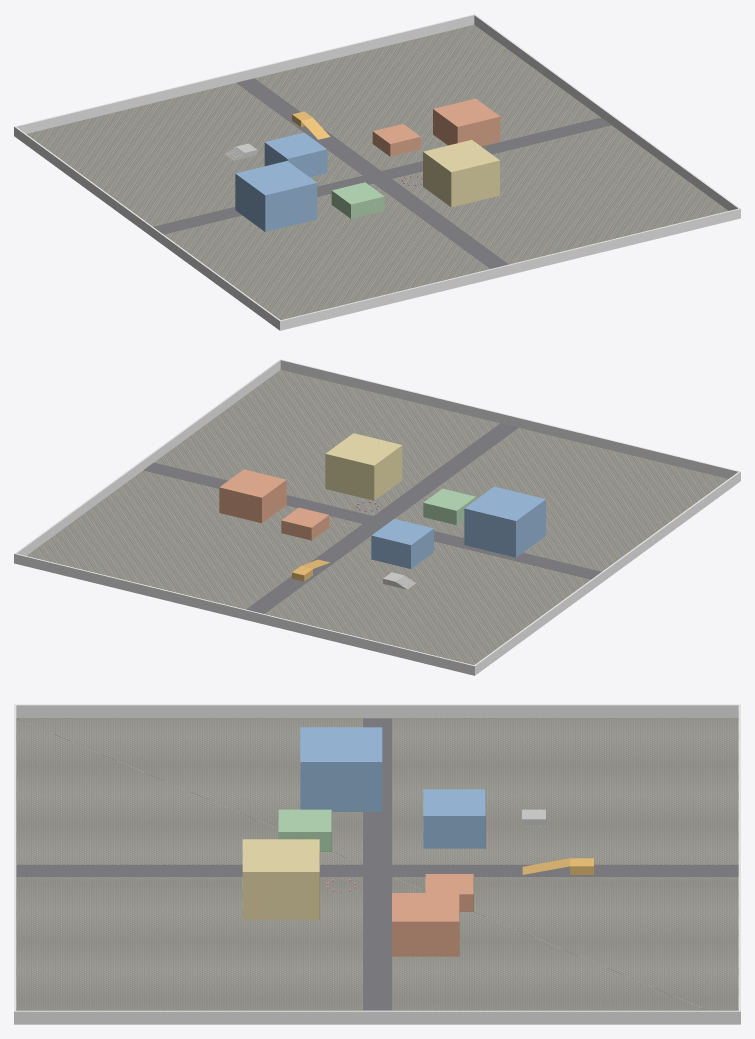
Rendered from world.glb.
3 renders of one model, top to bottom at view 1: azimuth 30°, elevation 25°; view 2: azimuth 150°, elevation 25°; view 3: azimuth 270°, elevation 25°, orthographic. The views are drawn at different scales.
Parts seen in each view (by area): view 1: Ground, COL_EdgeWalls, Road, Building5, Building2, Building4, Building1, Building3, Building0; view 2: Ground, COL_EdgeWalls, Road, Building5, Building2, Building4, Building1, Building3, Building0; view 3: Ground, COL_EdgeWalls, Road, Building5, Building2, Building4, Building1, Building3, Building0, JumpRamp.
Part boxes in pixels (x1=…): Ground: x1=26, y1=25, x2=728, y2=319; COL_EdgeWalls: x1=14, y1=14, x2=740, y2=330; Road: x1=153, y1=78, x2=611, y2=268; Building5: x1=235, y1=161, x2=317, y2=231; Building2: x1=423, y1=140, x2=499, y2=207; Building4: x1=433, y1=98, x2=500, y2=146; Building1: x1=264, y1=132, x2=327, y2=177; Building3: x1=331, y1=182, x2=384, y2=218; Building0: x1=372, y1=124, x2=420, y2=156; Ground: x1=26, y1=370, x2=728, y2=664; COL_EdgeWalls: x1=14, y1=359, x2=740, y2=675; Road: x1=143, y1=423, x2=601, y2=613; Building5: x1=464, y1=486, x2=545, y2=557; Building2: x1=325, y1=433, x2=402, y2=500; Building4: x1=219, y1=469, x2=286, y2=523; Building1: x1=371, y1=519, x2=433, y2=568; Building3: x1=423, y1=488, x2=476, y2=525; Building0: x1=281, y1=507, x2=329, y2=540; Ground: x1=16, y1=718, x2=738, y2=1010; COL_EdgeWalls: x1=14, y1=704, x2=740, y2=1024; Road: x1=16, y1=718, x2=738, y2=1010; Building5: x1=300, y1=727, x2=382, y2=811; Building2: x1=242, y1=839, x2=319, y2=919; Building4: x1=392, y1=893, x2=459, y2=956; Building1: x1=423, y1=789, x2=485, y2=848; Building3: x1=278, y1=809, x2=331, y2=851; Building0: x1=425, y1=874, x2=473, y2=911; JumpRamp: x1=522, y1=858, x2=593, y2=874.
Size of the model in its own units: 302 by 23 by 302.
2 materials, 1 textured.
